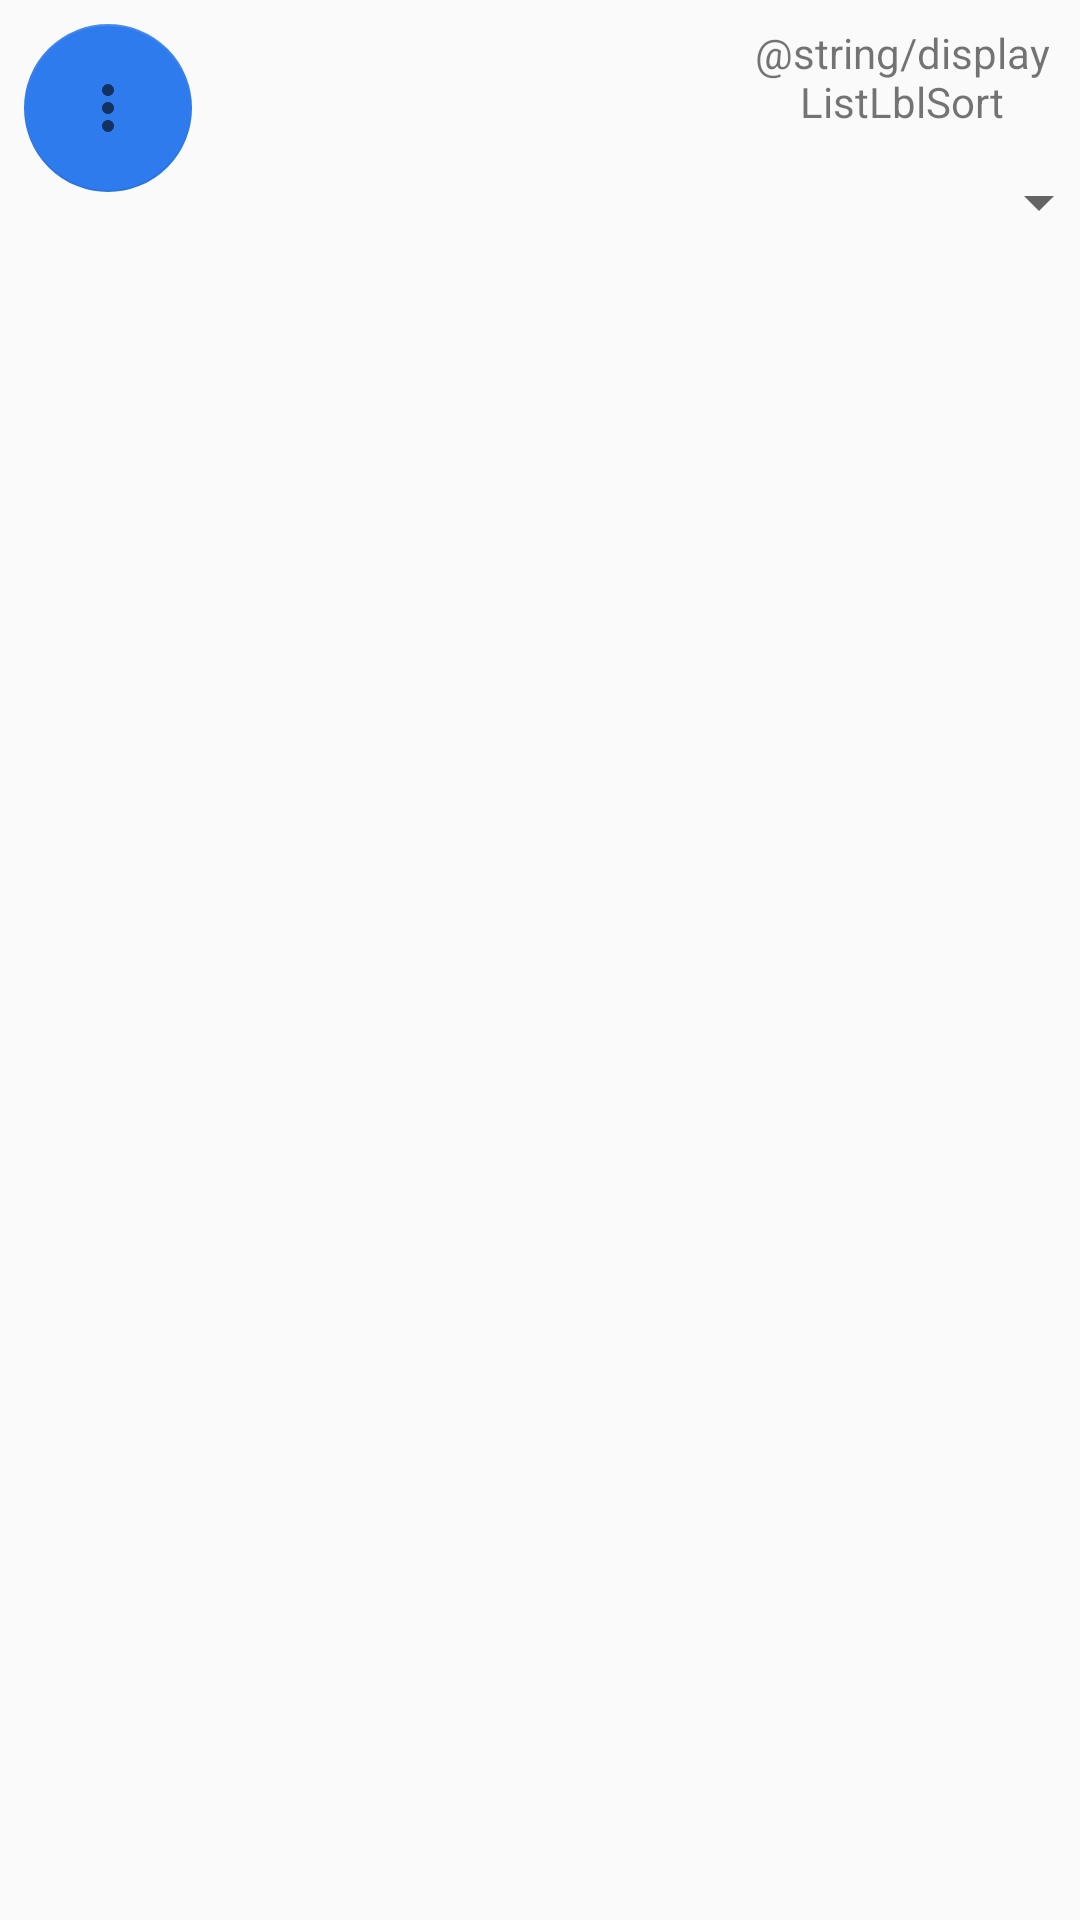

Screen size 1080x1920. Icon name, then its center in pixels as (x=x, y=y):
overflow: (x=108, y=108)
